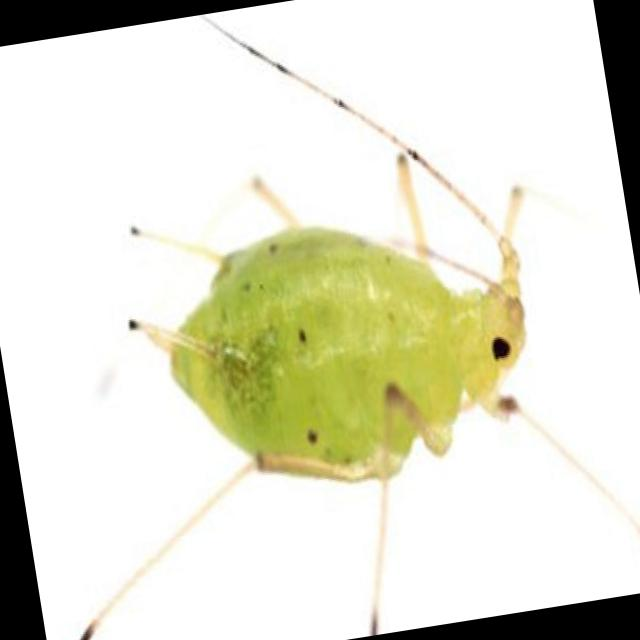Aphid: (9, 25, 640, 640)
